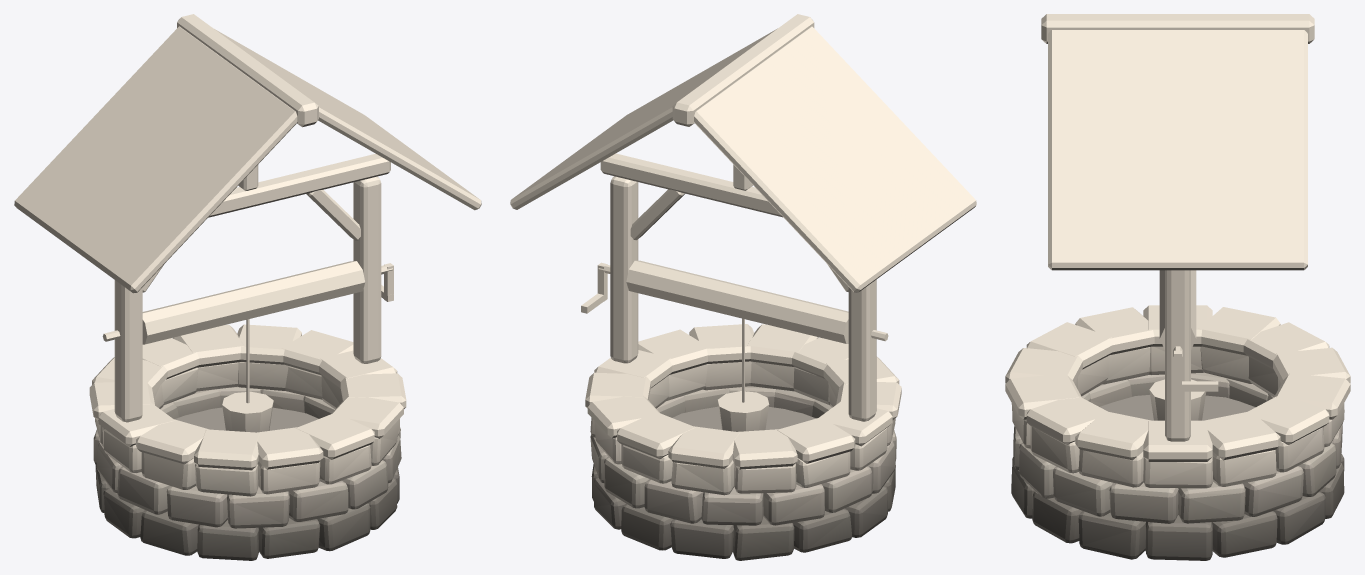
Rendered from SM_VK_Prop_Well.fbx.
3 views of the same model, side by side, from view 1: azimuth 30°, elevation 25°; view 2: azimuth 150°, elevation 25°; view 3: azimuth 270°, elevation 25° (orthographic). The views are drawn at different scales.
Visible parts, largest first — view 1: SM_VK_Prop_Well.001; view 2: SM_VK_Prop_Well.001; view 3: SM_VK_Prop_Well.001.
Part boxes in pixels (<box>): SM_VK_Prop_Well.001: <box>14,14,481,560</box>; SM_VK_Prop_Well.001: <box>510,14,976,560</box>; SM_VK_Prop_Well.001: <box>1005,14,1350,560</box>.
Bounding box in the file's own units: 3.39 × 4.05 × 2.65.
